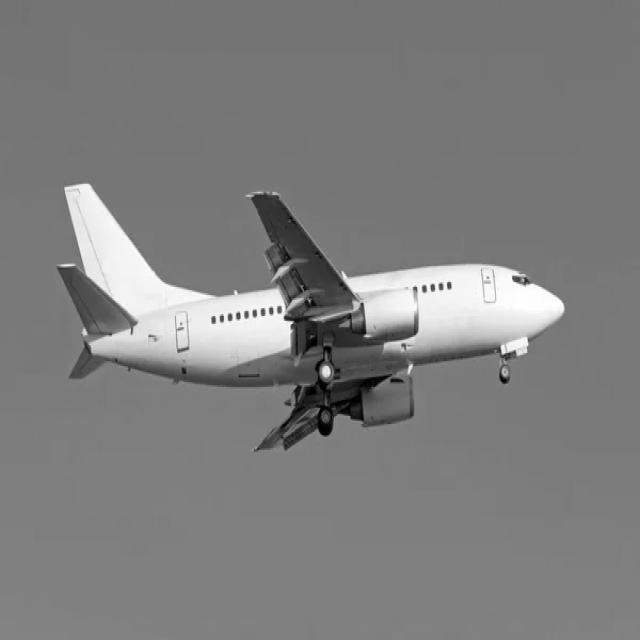Aircraft: (45, 160, 568, 443)
